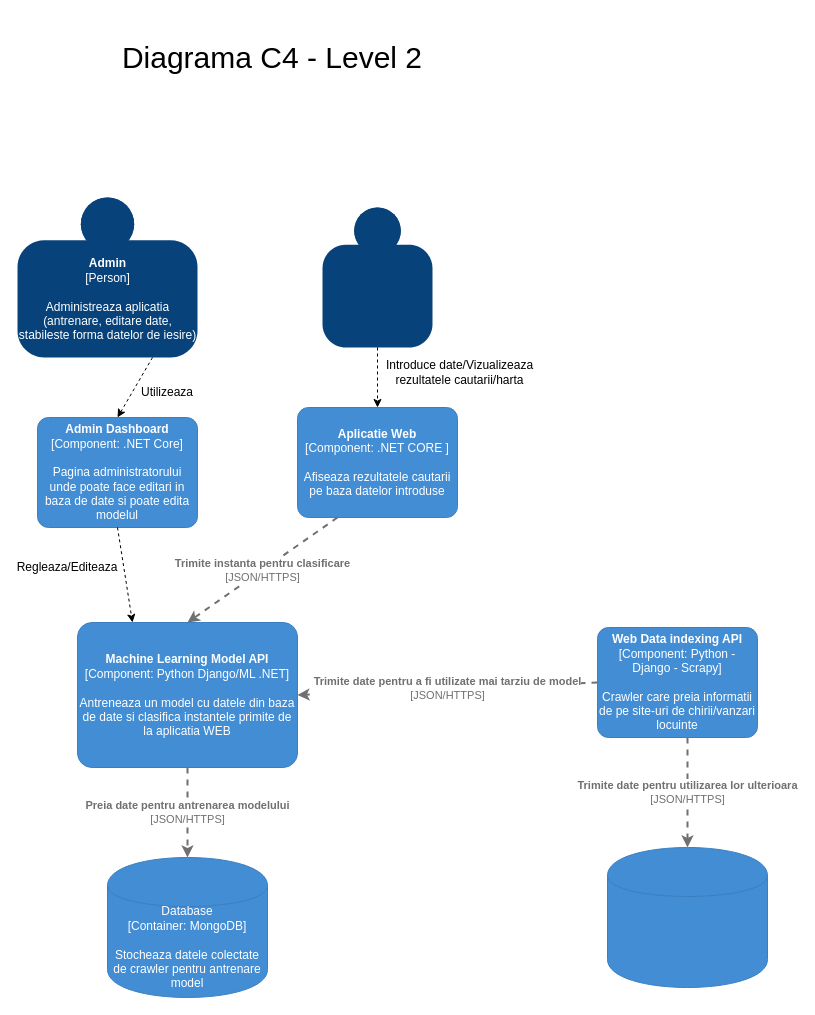
Image size: 815x1015. Some labels were removed from this diagram. The centre of each missing label's shape, as x and y in pixels:
"Database [Container: MongoDB] Datele extrase de crawler de pe web" goes at point 687,917.
"Utilizator anonim [Person] Chirias cauta chiei" goes at point 377,277.
